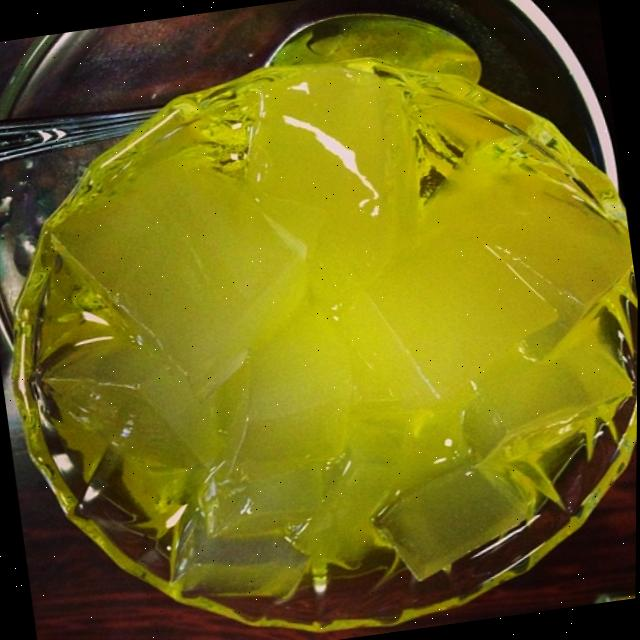蛋糕甜品: (3, 22, 640, 640)
